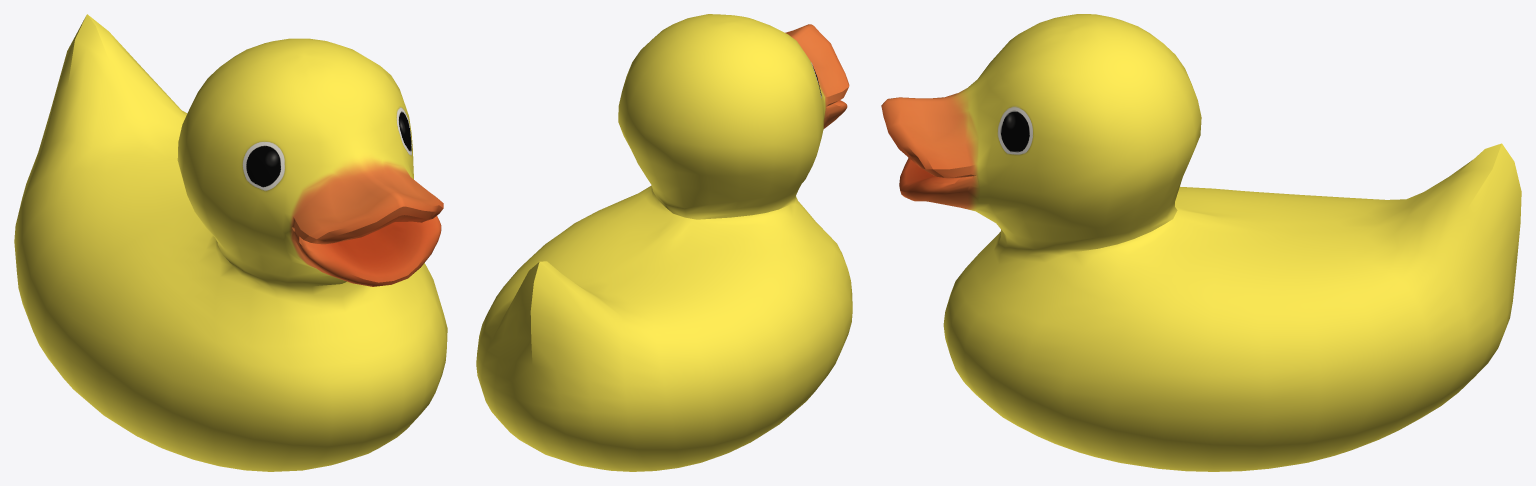
File: Duck_01.fbx
The picture shows the model from 3 angles, left to right: view 1: azimuth 30°, elevation 25°; view 2: azimuth 150°, elevation 25°; view 3: azimuth 270°, elevation 25°; orthographic projection. The views are drawn at different scales.
Parts seen in each view (by area): view 1: pSphere3; view 2: pSphere3; view 3: pSphere3.
Part boxes in pixels (x1,y1,x2,y2): pSphere3: (14,14,447,471); pSphere3: (476,14,852,471); pSphere3: (881,14,1521,471).
Size of the model in its own units: 4.9 by 6.07 by 8.38.
1 material, 1 textured.
